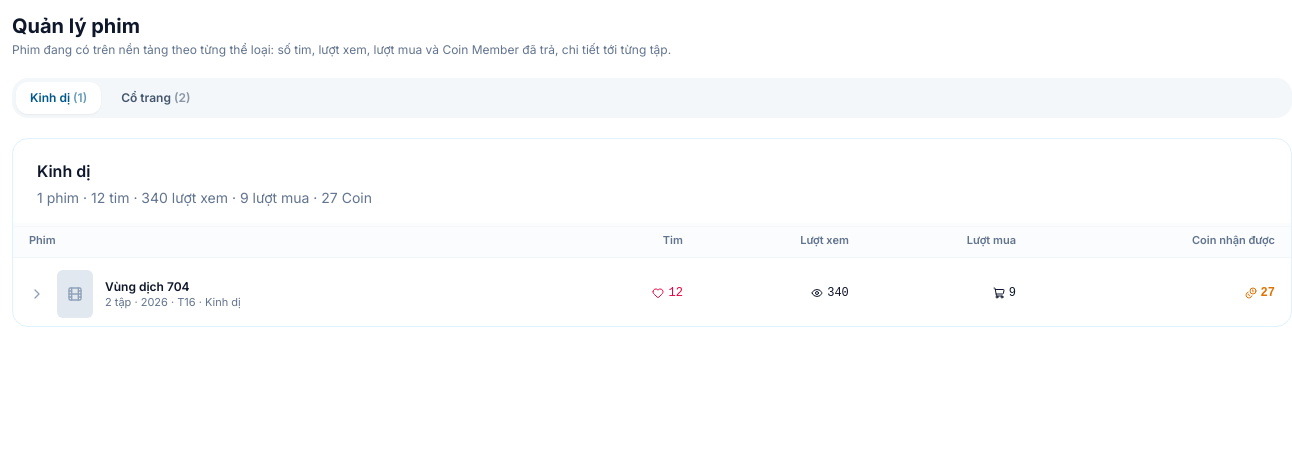
Test: AdminMoviesPanel › shows one genre per tab with hearts, plays and Coin per movie, then per episode
Expected: the tab "Cổ trang (2)" is shown, [107,82,204,114]
Expected: the text "340" is shown, [811,285,849,301]
Click the button named "Xem từng tập của Vùng dịch 704": [37, 294] box [29,286,45,302]
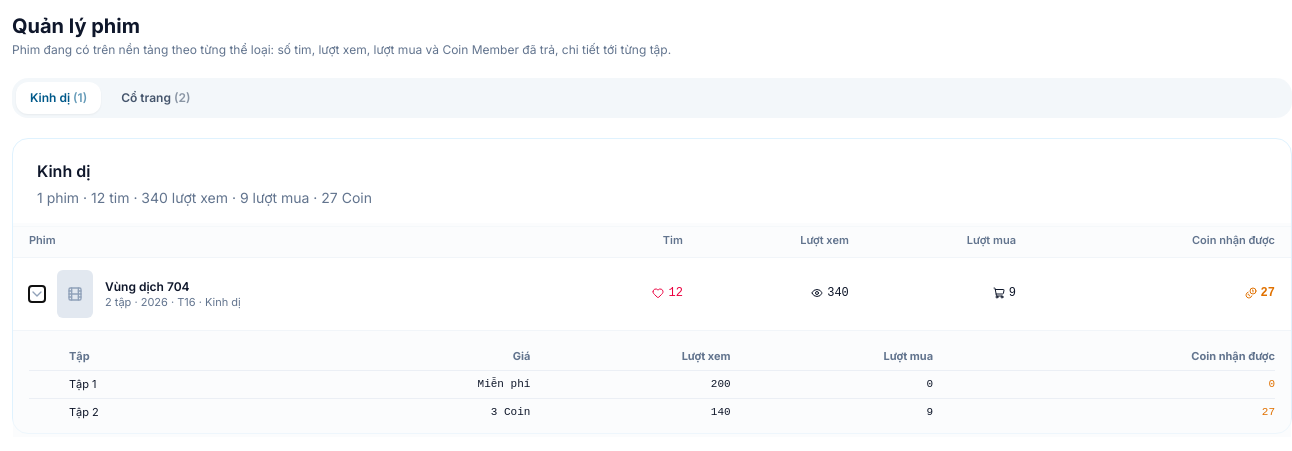
Expected: the text "Tập 2" is shown, [29,398,314,425]
Expected: the text "3 Coin" is shown, [314,398,530,425]
